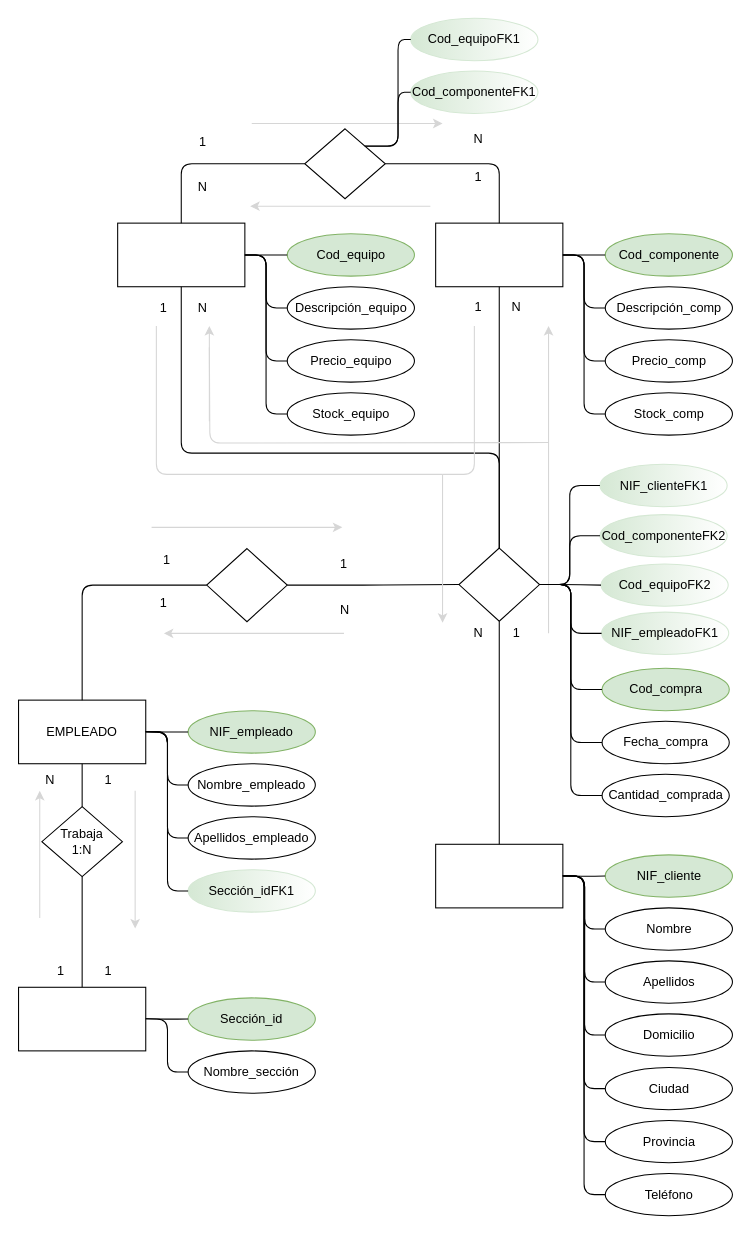
Some shapes in this 752 by 1235 pixel diagram are drawn without their labels. The shapes that lost their labels are listed below. From the top down, each one's centre as x and y in pixels, then its label:
At point 344,163: "incluye N:M".
At point 181,254: "EQUIPO".
At point 499,254: "COMPONENTE".
At point 246,584: "Atiende 1:N".
At point 499,584: "Compra N:M".
At point 499,875: "CLIENTE".
At point 81,1018: "SECCIÓN".
